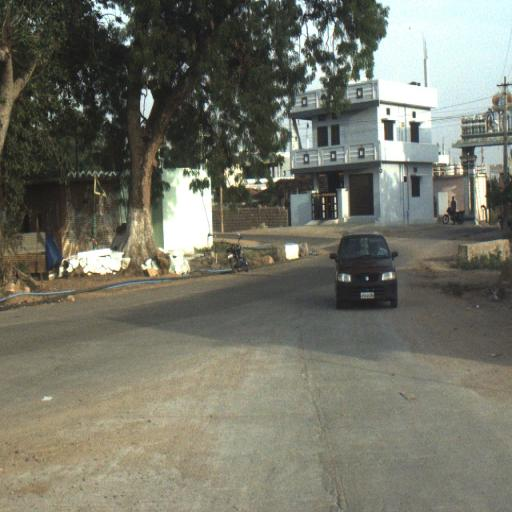street_light_0: (494, 119, 508, 143)
